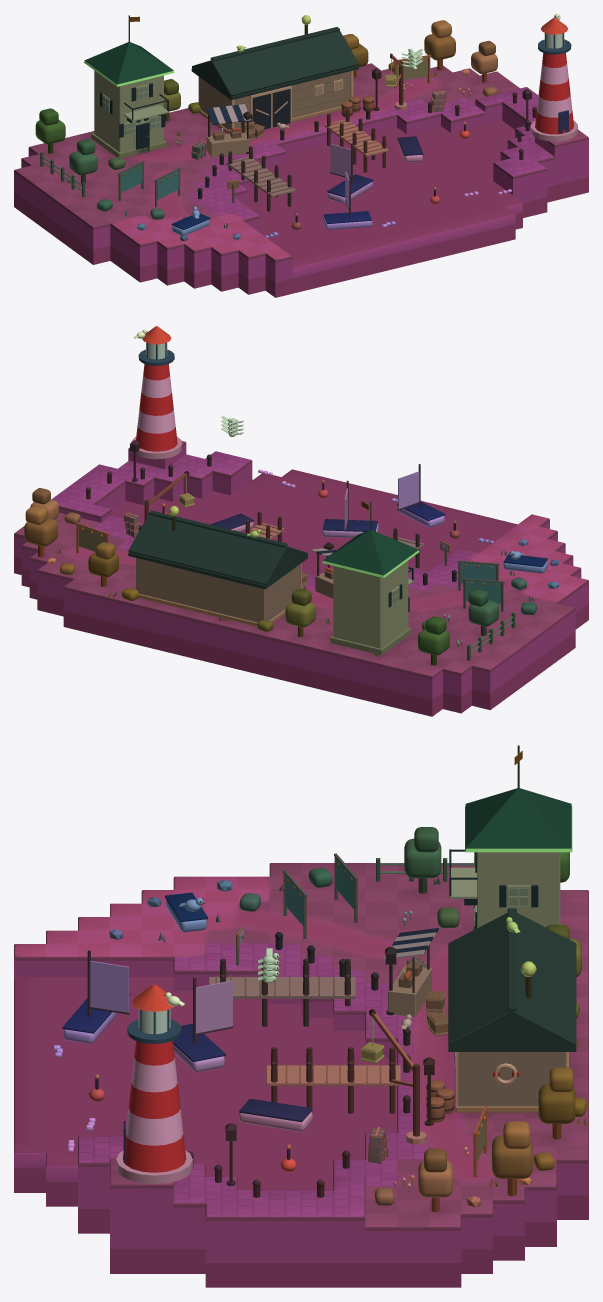
The model's file is coast_1.glb.
3 renders of one model, top to bottom at view 1: azimuth 30°, elevation 25°; view 2: azimuth 150°, elevation 25°; view 3: azimuth 270°, elevation 25°, orthographic. The views are drawn at different scales.
Visible parts, largest first — view 1: Terrain.001, Buildings, Props, Trees, Greenery; view 2: Terrain.001, Buildings, Props, Trees, Greenery; view 3: Terrain.001, Buildings, Props, Trees, Greenery.
Boxes of the visible parts, bbox=[...] form: Terrain.001: bbox=[14, 63, 588, 297]; Buildings: bbox=[84, 15, 577, 235]; Props: bbox=[40, 14, 560, 241]; Trees: bbox=[35, 20, 497, 183]; Greenery: bbox=[67, 62, 497, 228]; Terrain.001: bbox=[14, 441, 588, 716]; Buildings: bbox=[128, 326, 547, 655]; Props: bbox=[47, 329, 559, 660]; Trees: bbox=[24, 488, 498, 665]; Greenery: bbox=[56, 512, 536, 656]; Terrain.001: bbox=[14, 863, 588, 1287]; Buildings: bbox=[62, 745, 576, 1184]; Props: bbox=[53, 853, 536, 1207]; Trees: bbox=[404, 827, 581, 1212]; Greenery: bbox=[158, 867, 587, 1205].
Bounding box in the file's own units: 27 × 9.42 × 18.
45 materials, 1 textured.
